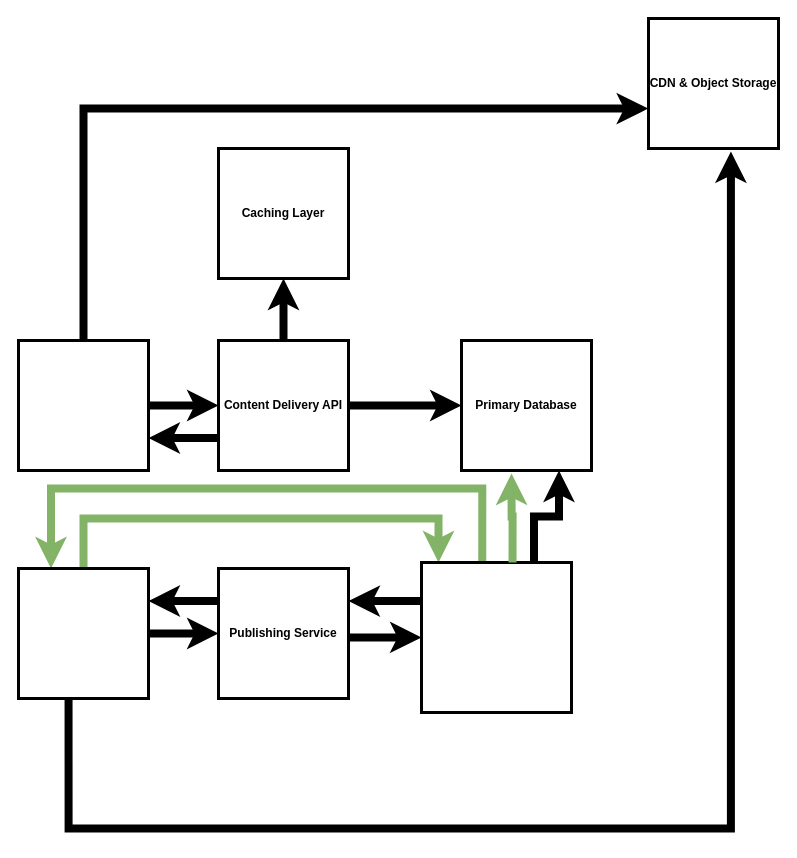
The diagram is 797 pixels wide and 858 high, and some of its shapes have lost their labels. The shapes that lost their labels are listed below. From the top down, each one's centre as x and y in pixels, then its label:
At (x=83, y=405): "User Frontend ( user feeds )".
At (x=83, y=633): "Admin Frontend ( publisher panel )".
At (x=496, y=637): "Authentication Service".
